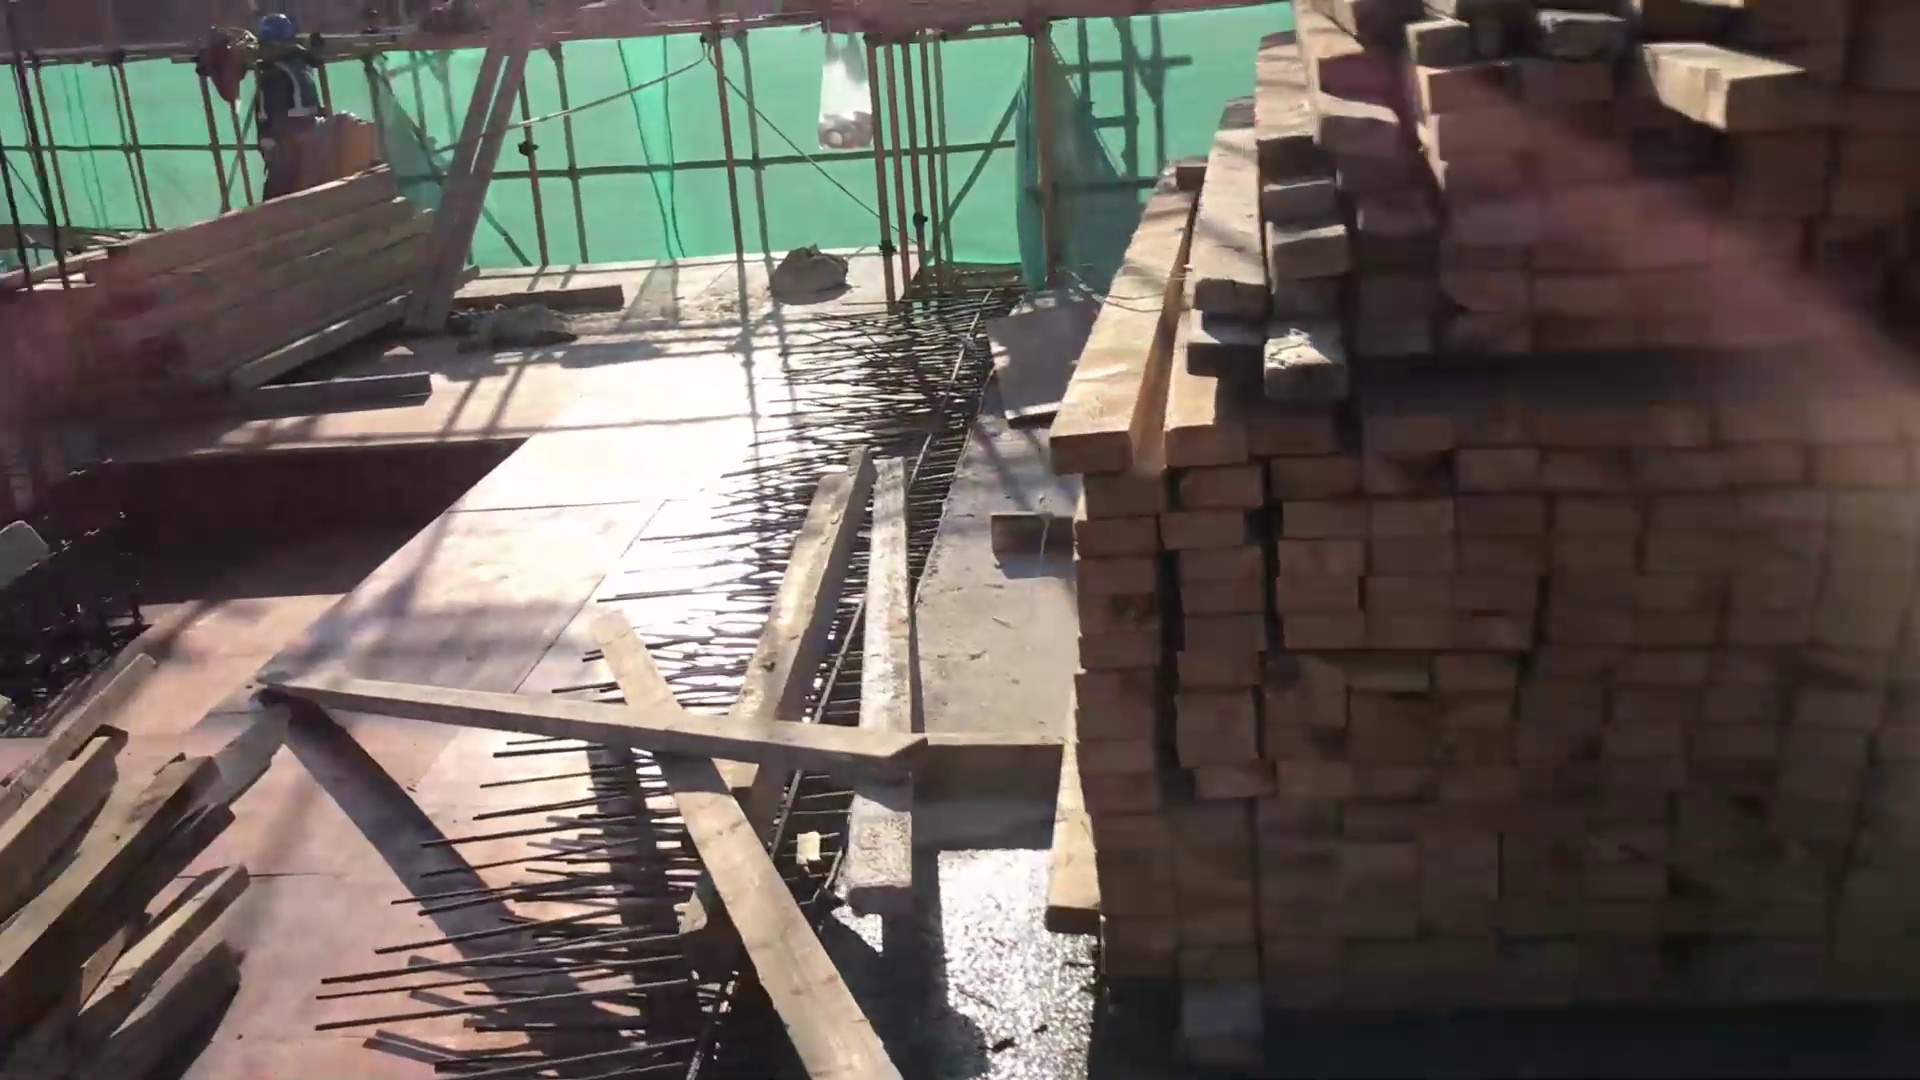wood: (1034, 170, 1920, 1025), (1162, 1, 1920, 402)
